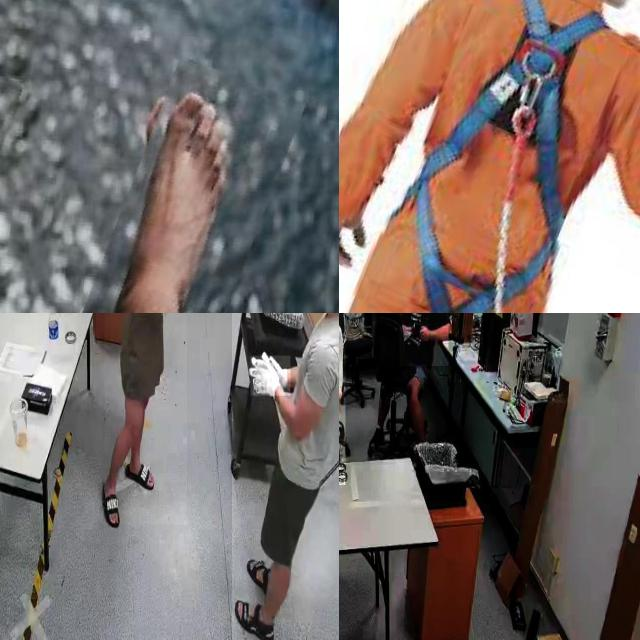Barefoots: (105, 80, 264, 313)
Harness: (392, 0, 608, 313)
hand_glove: (250, 356, 290, 396)
hand_noglove: (419, 323, 429, 342), (412, 320, 420, 338)
person: (232, 313, 339, 640), (104, 313, 187, 525), (399, 313, 448, 367)
